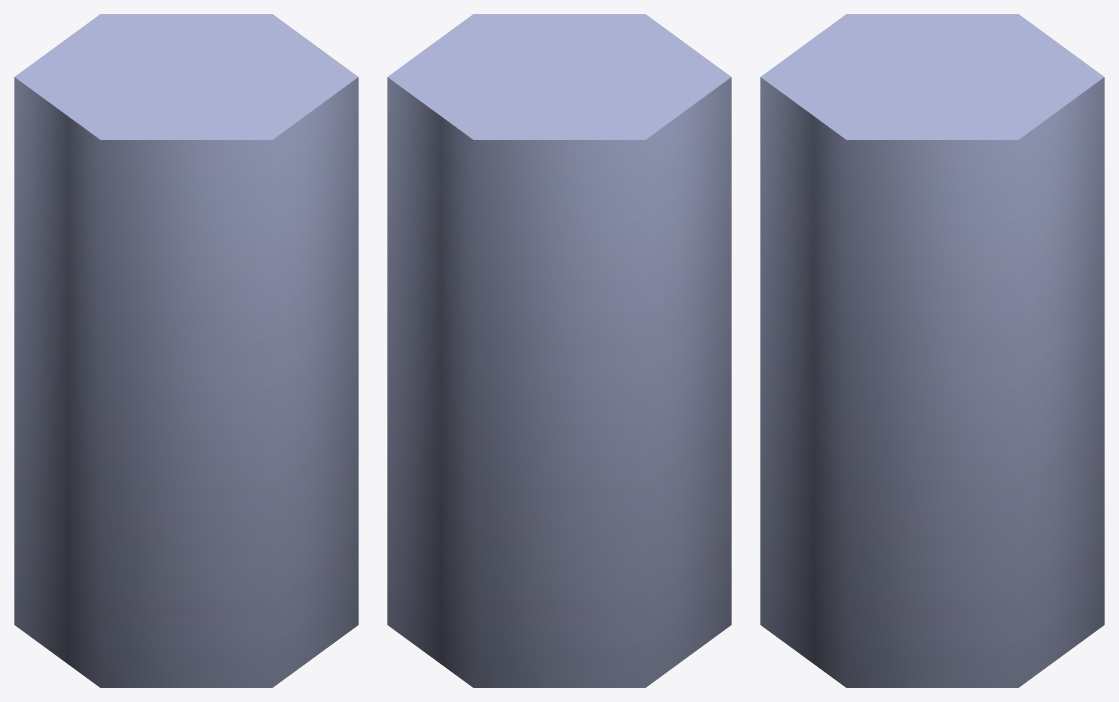
The model's file is pipe.glb.
The picture shows the model from 3 angles, left to right: view 1: azimuth 30°, elevation 25°; view 2: azimuth 150°, elevation 25°; view 3: azimuth 270°, elevation 25°; orthographic projection.
Visible parts, largest first — view 1: pipe; view 2: pipe; view 3: pipe.
Part boxes in pixels (box(x1,y1,x2,y2)): pipe: box(14, 14, 358, 687); pipe: box(387, 14, 731, 687); pipe: box(760, 14, 1104, 687).
Size of the model in its own units: 0.2464 by 0.5 by 0.2845.
Materials: 1 (1 with a texture image).
